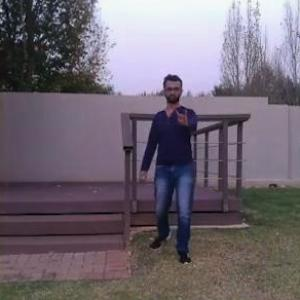takeoff-hand: (173, 99, 193, 132)
